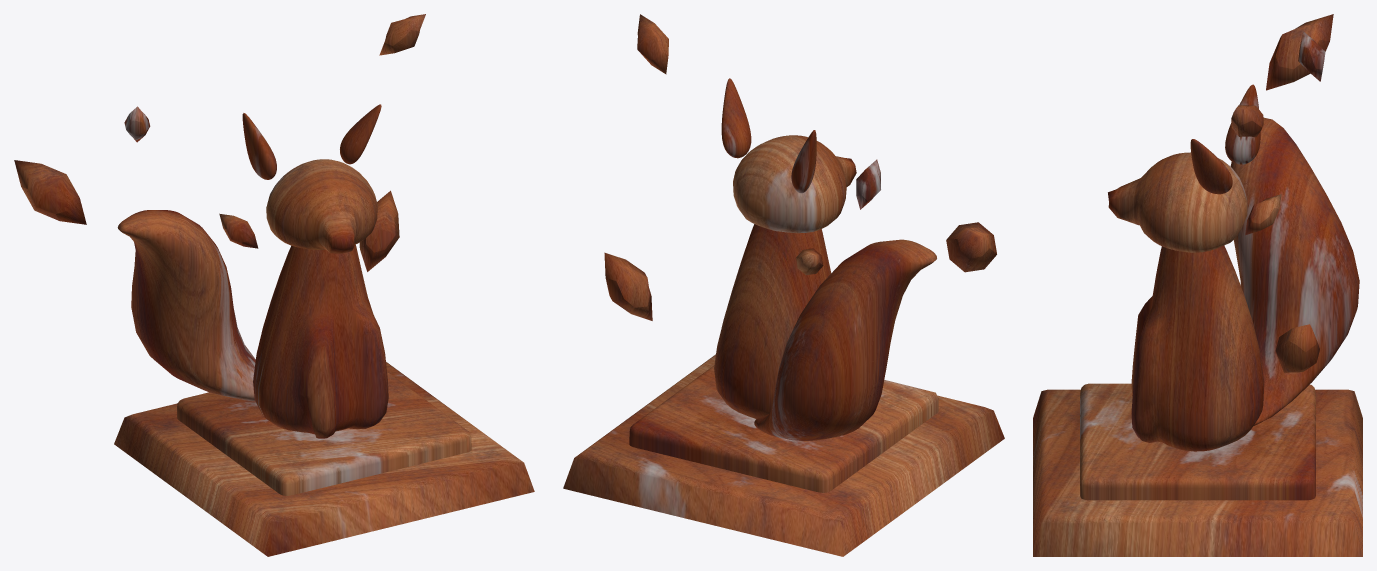
File: Fox.fbx
3 views of the same model, side by side, from view 1: azimuth 30°, elevation 25°; view 2: azimuth 150°, elevation 25°; view 3: azimuth 270°, elevation 25° (orthographic). The views are drawn at different scales.
Parts seen in each view (by area): view 1: low; view 2: low; view 3: low.
Part boxes in pixels (left/top/right/bottom): low: left=14, top=14, right=534, bottom=556; low: left=563, top=14, right=1004, bottom=556; low: left=1033, top=14, right=1362, bottom=556.
Size of the model in its own units: 334 by 234 by 346.
1 material, 1 textured.
